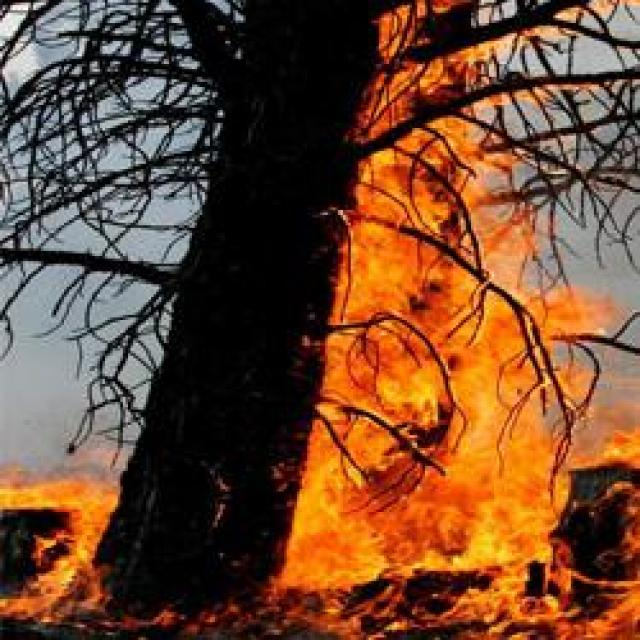fire: (316, 7, 640, 636), (0, 478, 162, 638)
